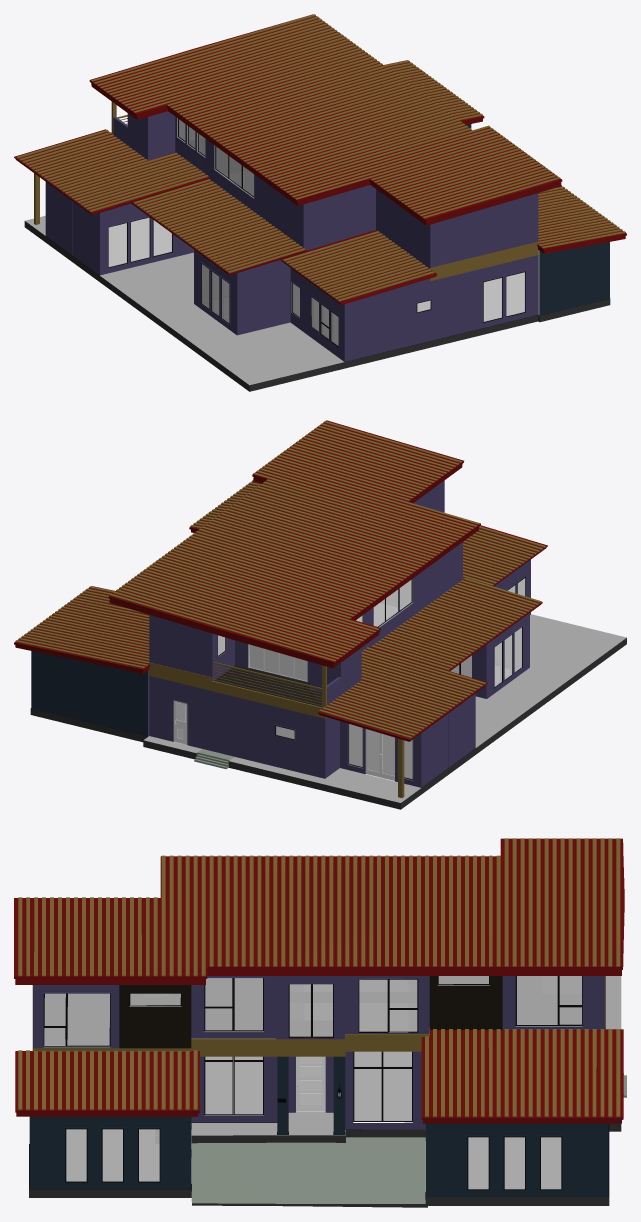
The model's file is BH_variant_4.glb.
3 views of the same model, one above another, from view 1: azimuth 30°, elevation 25°; view 2: azimuth 150°, elevation 25°; view 3: azimuth 270°, elevation 25° (orthographic). The views are drawn at different scales.
Parts seen in each view (by area): view 1: ROOF.001, LF_EXT.001, TF_EXT.001, portico, WindowsBH, outermetal.001; view 2: ROOF.001, LF_EXT.001, portico, TF_EXT.001, WindowsBH, outermetal.001, TF_FLOOR, Outdoor_Door.001_d1, Door01_Support_d1.001, Laundry_Door_d1, Outdoor_Door_d1; view 3: ROOF.001, WindowsBH, LF_EXT.001, portico, TF_EXT.001, outermetal.001, Entrance_door_d1, FIREPLACE.001.
Boxes of the visible parts, x1,y1,x2,y2 form: ROOF.001: [14, 14, 626, 304]; LF_EXT.001: [45, 124, 609, 361]; TF_EXT.001: [113, 111, 538, 268]; portico: [24, 215, 610, 391]; WindowsBH: [108, 119, 525, 347]; outermetal.001: [429, 242, 538, 281]; ROOF.001: [14, 420, 547, 798]; LF_EXT.001: [31, 559, 530, 787]; portico: [30, 614, 626, 809]; TF_EXT.001: [149, 480, 462, 704]; WindowsBH: [218, 577, 525, 779]; outermetal.001: [149, 662, 325, 718]; TF_FLOOR: [214, 665, 321, 707]; Outdoor_Door.001_d1: [366, 729, 380, 777]; Door01_Support_d1.001: [249, 644, 307, 681]; Laundry_Door_d1: [173, 700, 187, 744]; Outdoor_Door_d1: [380, 733, 394, 780]; ROOF.001: [14, 838, 624, 1123]; WindowsBH: [43, 976, 582, 1190]; LF_EXT.001: [29, 1032, 608, 1197]; portico: [29, 976, 626, 1207]; TF_EXT.001: [33, 976, 605, 1048]; outermetal.001: [32, 976, 605, 1056]; Entrance_door_d1: [296, 1056, 325, 1112]; FIREPLACE.001: [44, 985, 582, 1115].
Bounding box in the file's own units: 24.33 × 8.6 × 25.06.
